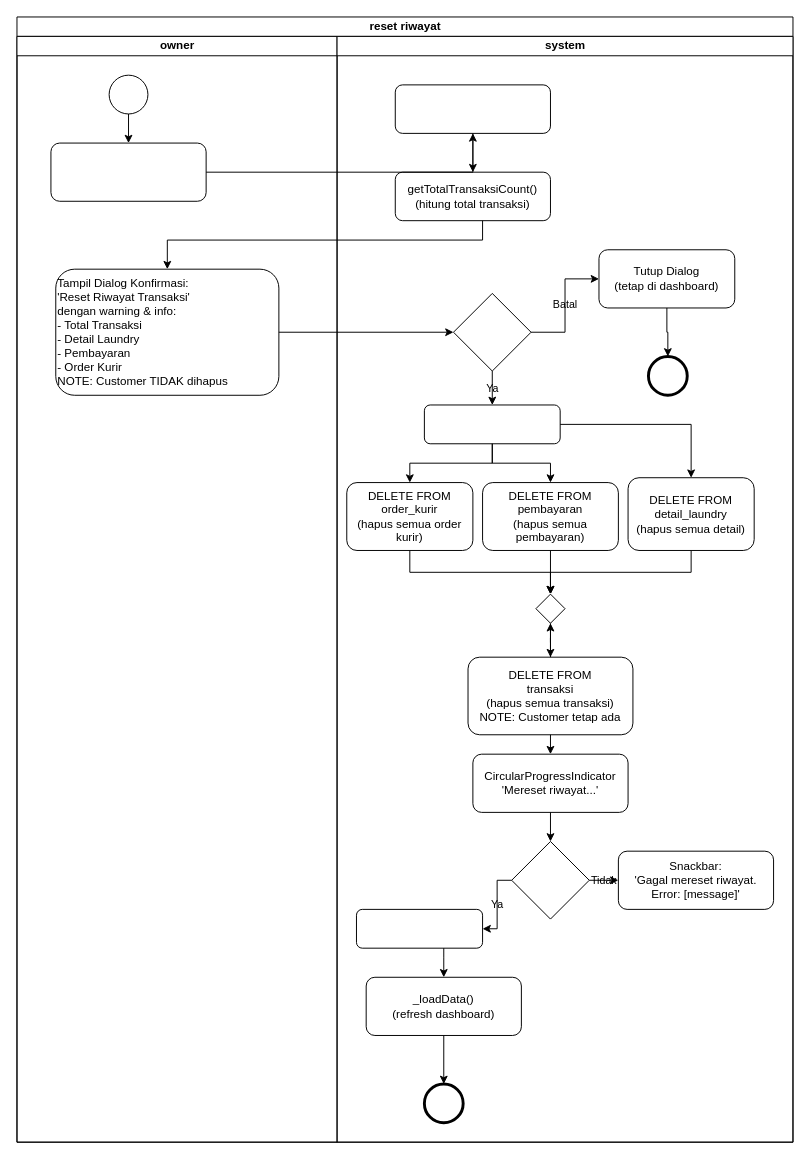
The diagram is 810 pixels wide and 1159 high, and some of its shapes have lost their labels. Each missing label, with the centre of its shape:
_resetRiwayat() (mulai proses reset): the point at 491,424
_showResetRiwayatDialog(): the point at 472,108
Klik 'Reset Riwayat' dari Dashboard: the point at 128,171
Pilih 'Ya, Reset'?: the point at 492,331
Reset Berhasil?: the point at 550,880
Snackbar: 'Riwayat berhasil direset': the point at 419,928
